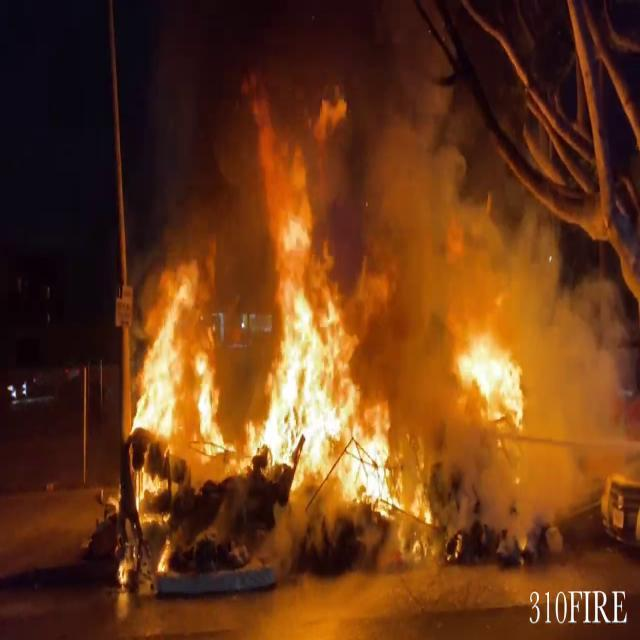Fire: (127, 86, 425, 518), (448, 322, 540, 432)
Smoke: (390, 75, 640, 552)
